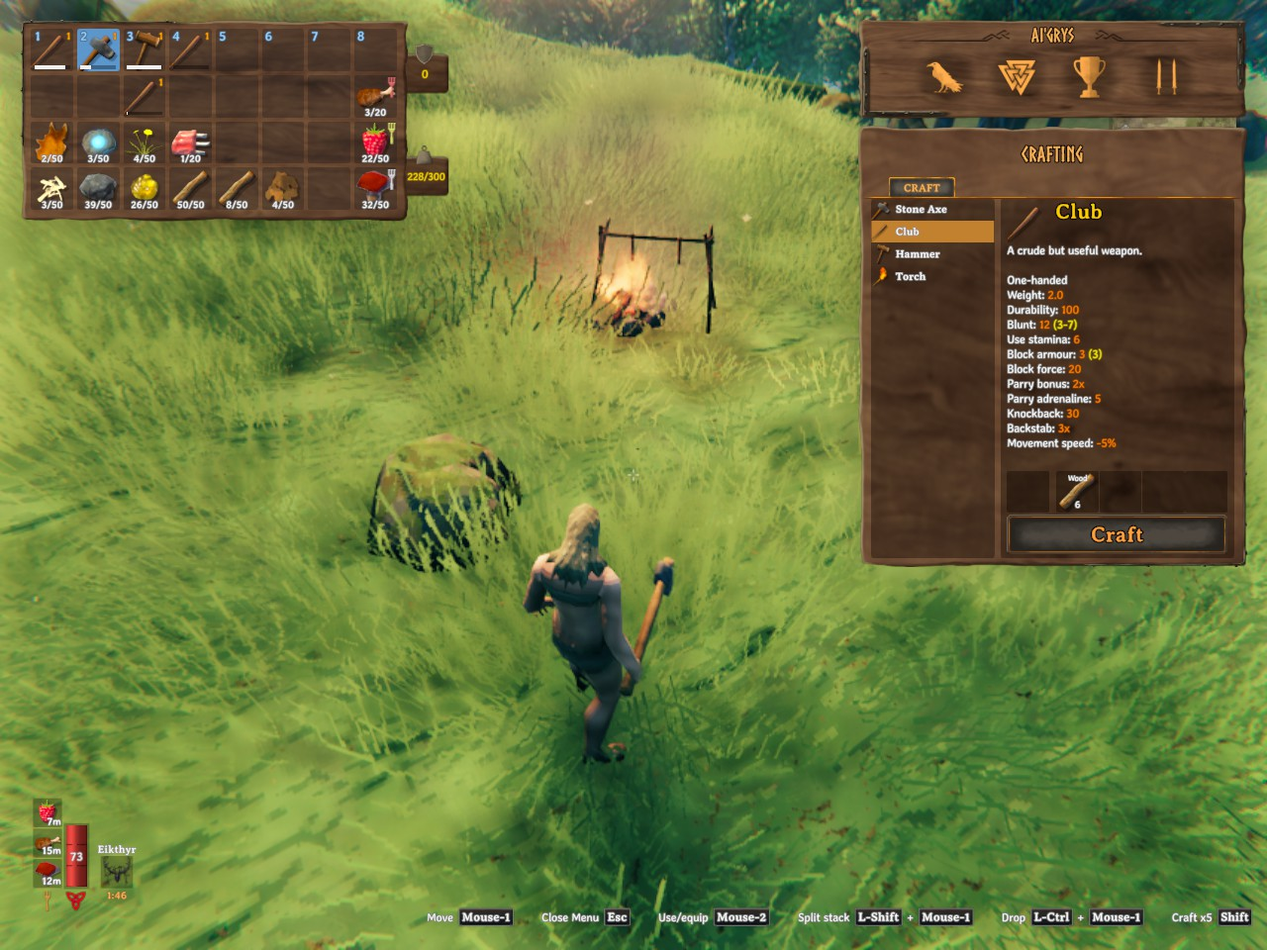Cook Station: (596, 226, 718, 268)
Craft Button: (1008, 516, 1224, 552)
Crafting Menu: (860, 131, 1246, 565)
Fire: (598, 289, 662, 335)
Food Indicator: (36, 797, 63, 891)
Health Bar: (63, 820, 90, 891)
Hotbar: (25, 21, 398, 78)
Inventory: (21, 20, 406, 218)
Stone Axe: (634, 558, 672, 661), (622, 674, 635, 695)
